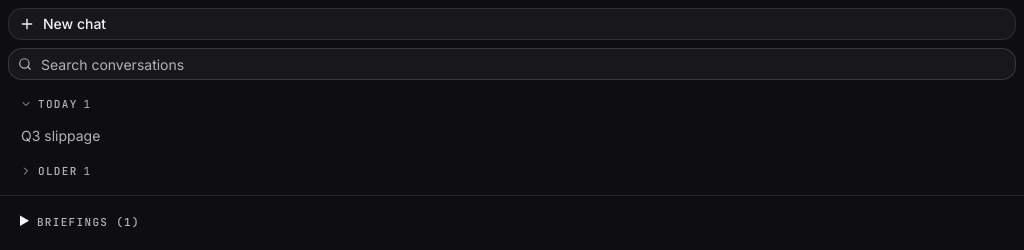
Test: ConversationRail surface model › counts what the briefings section will actually show
Type "hiring" into the field labelled "Search conversations" at (512,64), box [8,48,1016,80]
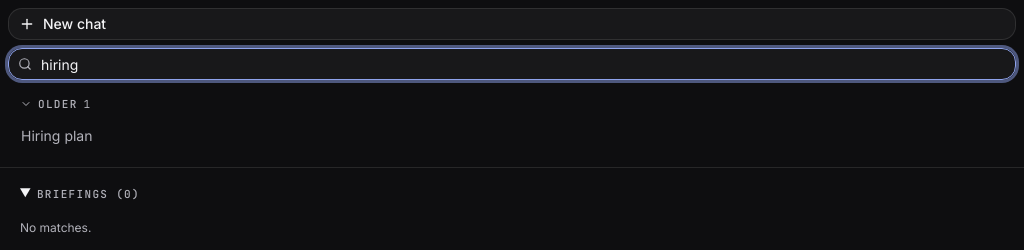
Check: the text "Briefings (0)" is shown, box [37,186,140,200]
